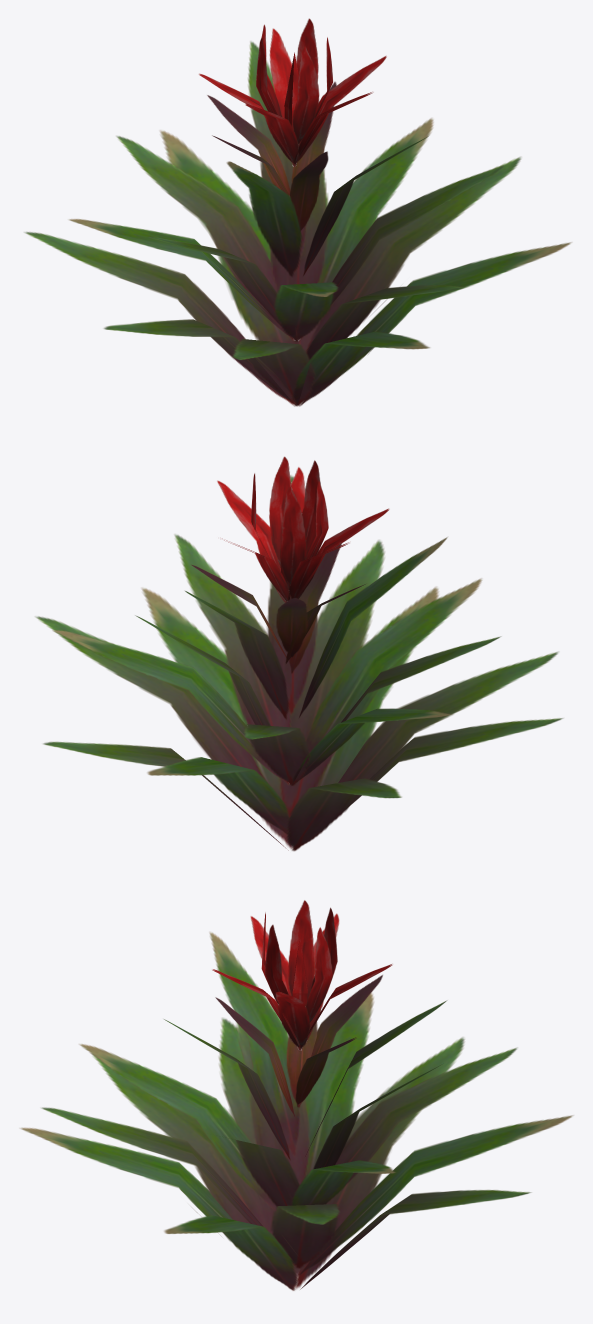
File: plant-18.glb
The picture shows the model from 3 angles, top to bottom: view 1: azimuth 30°, elevation 25°; view 2: azimuth 150°, elevation 25°; view 3: azimuth 270°, elevation 25°; orthographic projection. The views are drawn at different scales.
Parts seen in each view (by area): view 1: Plane_061; view 2: Plane_061; view 3: Plane_061.
Part boxes in pixels (x1=…): Plane_061: x1=24, y1=18, x2=571, y2=406; Plane_061: x1=35, y1=456, x2=563, y2=851; Plane_061: x1=20, y1=900, x2=573, y2=1290.
Size of the model in its own units: 4.73 by 3.48 by 4.7.
1 material, 1 textured.
